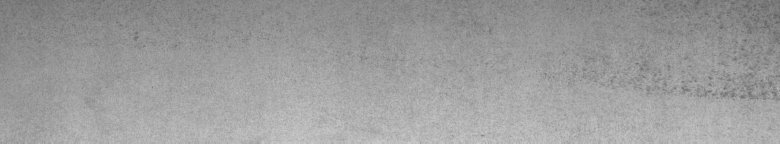ib: (629, 4, 776, 101)
